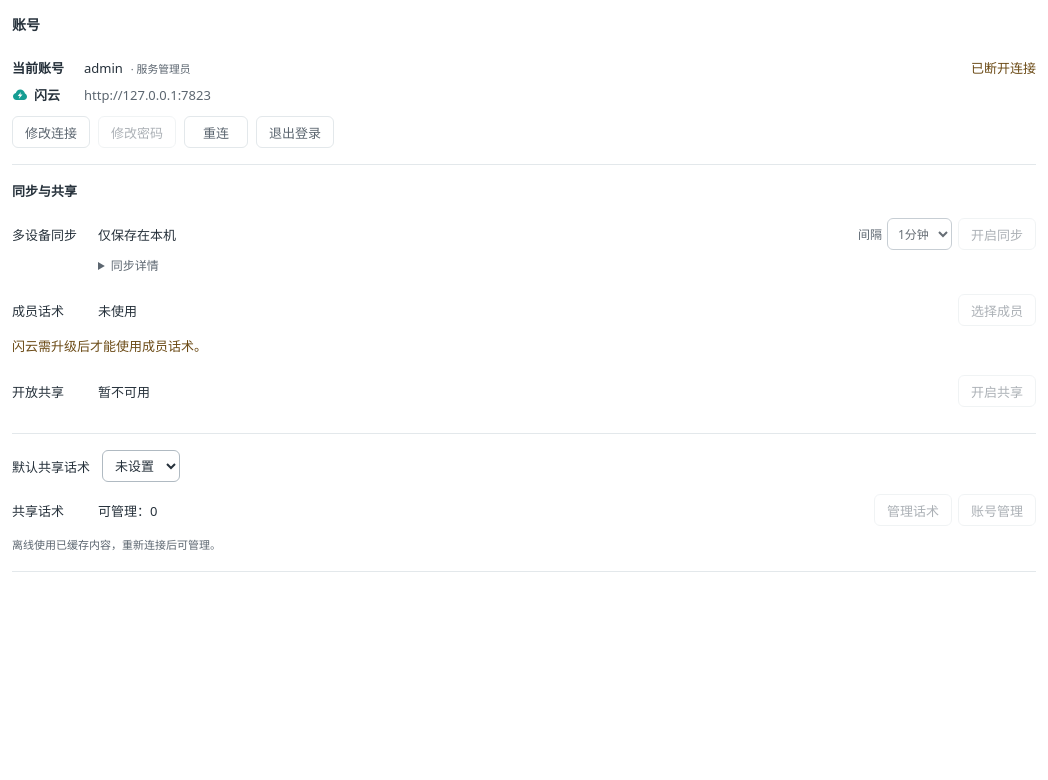
Test case: 重连失败仍保留账号与重连入口，不弹出登录表单
Click the button "重连". click: (216, 132)
box: [184,116,248,148]
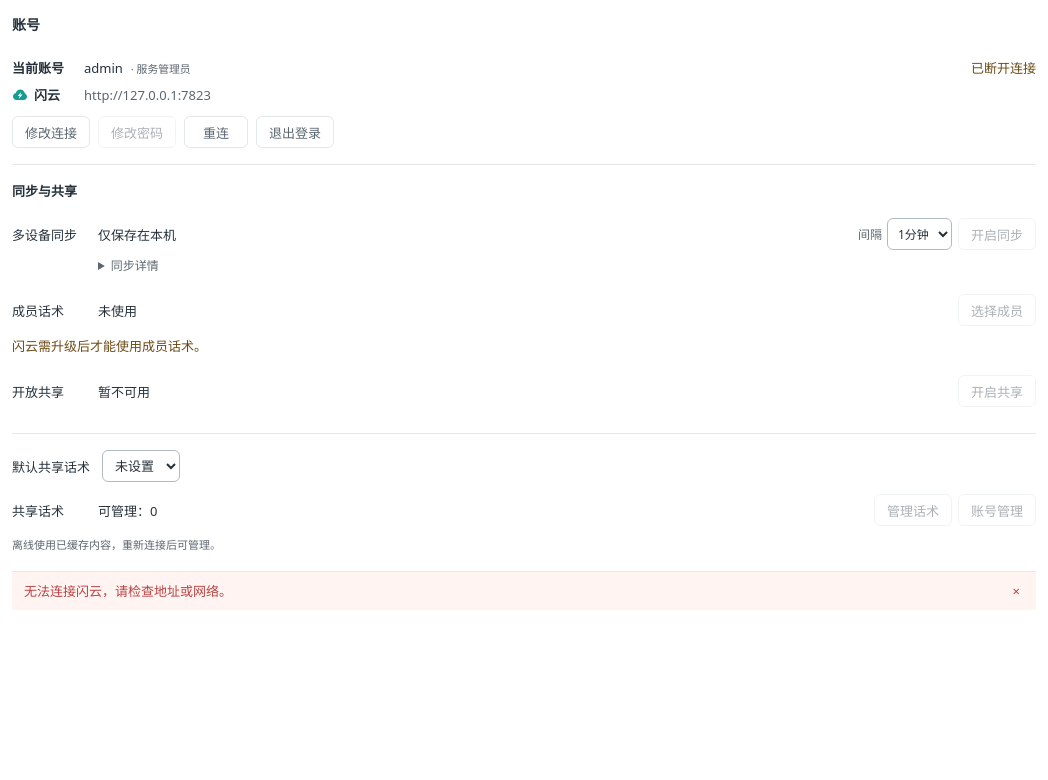
Expected: the text "已断开连接" is shown, [971,58,1036,77]
Result: the text "无法连接闪云，请检查地址或网络。" is shown at [24,582,232,600]
